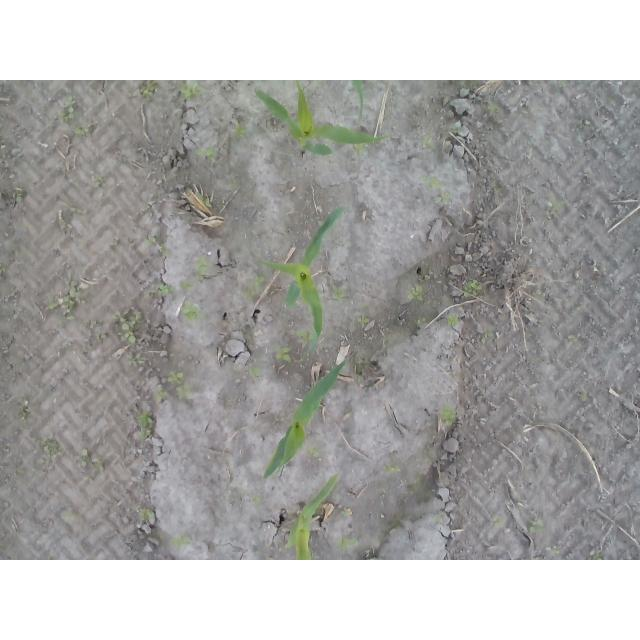Maize: (257, 207, 343, 354), (253, 80, 391, 157), (261, 360, 346, 481), (286, 473, 341, 560)
Weeds: (112, 309, 144, 347), (58, 279, 81, 328), (422, 175, 454, 206), (233, 275, 266, 302), (166, 369, 194, 399), (34, 434, 62, 460), (58, 94, 81, 122), (136, 408, 156, 440), (181, 299, 208, 321), (192, 254, 213, 282), (351, 301, 371, 327), (294, 329, 310, 361), (143, 235, 167, 256), (436, 402, 456, 426), (335, 534, 358, 554), (271, 342, 293, 362), (179, 81, 201, 100), (169, 535, 191, 554), (191, 144, 217, 160), (140, 81, 159, 102), (546, 192, 568, 209), (463, 278, 481, 298), (230, 118, 247, 138), (127, 352, 146, 368), (420, 128, 432, 152), (407, 287, 425, 302), (481, 325, 496, 343), (152, 387, 168, 402), (489, 512, 504, 528), (139, 507, 156, 521), (528, 520, 545, 533), (71, 124, 89, 136), (79, 447, 90, 465), (179, 278, 194, 291), (227, 177, 242, 190), (248, 366, 264, 378), (159, 283, 176, 294), (195, 192, 209, 205), (331, 288, 345, 301), (383, 464, 401, 474), (545, 544, 560, 556), (17, 404, 28, 420), (447, 314, 460, 327), (351, 142, 365, 154), (306, 447, 321, 458), (252, 495, 265, 506), (486, 104, 500, 114), (577, 120, 592, 129), (414, 317, 427, 327), (590, 552, 603, 561), (95, 333, 106, 343), (15, 193, 25, 203), (96, 177, 105, 188), (559, 80, 569, 88), (337, 509, 347, 517), (0, 263, 6, 274), (48, 304, 55, 313), (450, 128, 459, 135)
